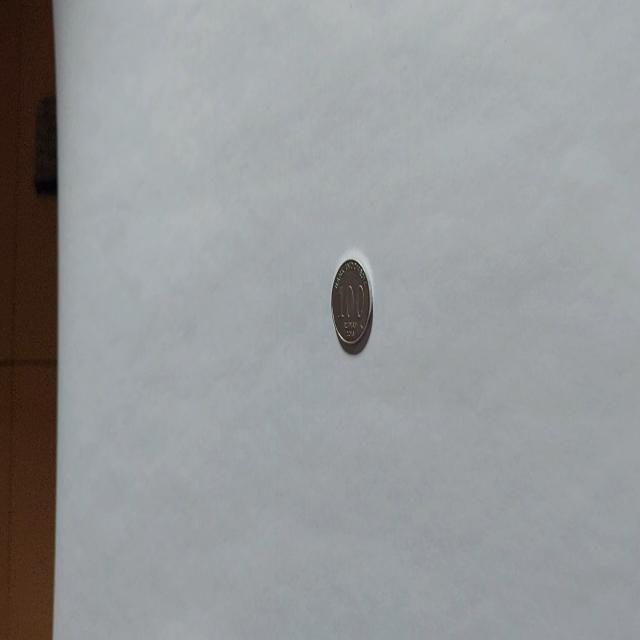seratus rupiah: (330, 256, 373, 354)
